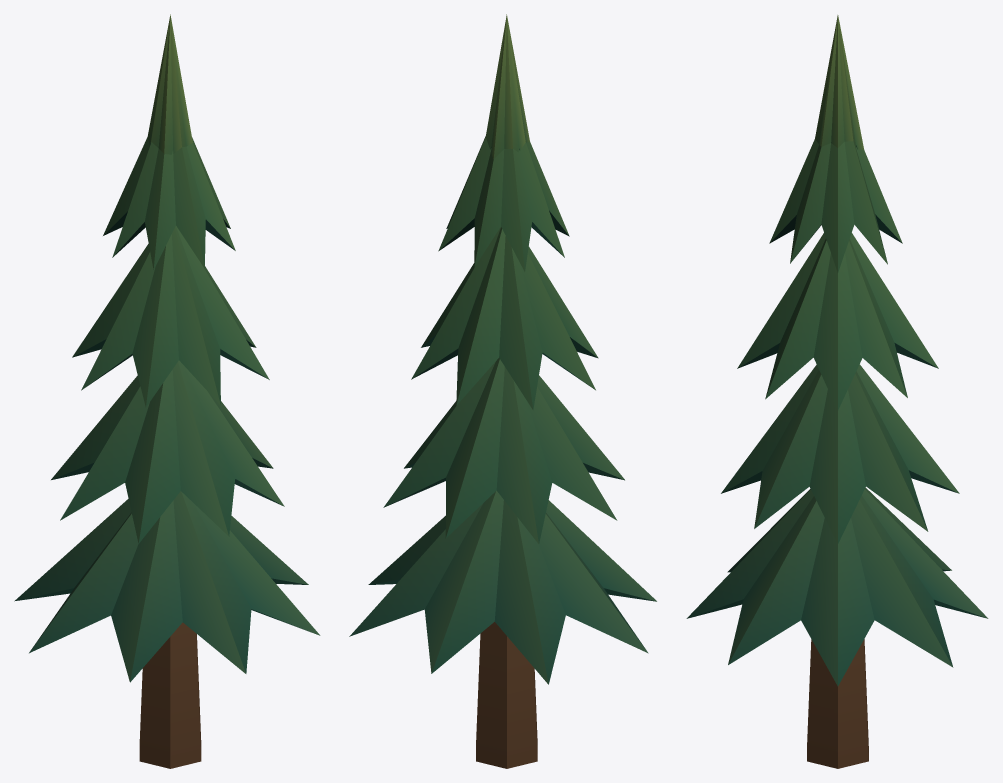
3 views of the same model, side by side, from view 1: azimuth 30°, elevation 25°; view 2: azimuth 150°, elevation 25°; view 3: azimuth 270°, elevation 25° (orthographic).
Visible parts, largest first — view 1: prop_pine_sparse; view 2: prop_pine_sparse; view 3: prop_pine_sparse.
Boxes of the visible parts, left/top/right/bottom form: prop_pine_sparse: left=14, top=14, right=320, bottom=768; prop_pine_sparse: left=349, top=14, right=656, bottom=768; prop_pine_sparse: left=686, top=15, right=988, bottom=768.
Bounding box in the file's own units: 2.78 × 7 × 2.59.
